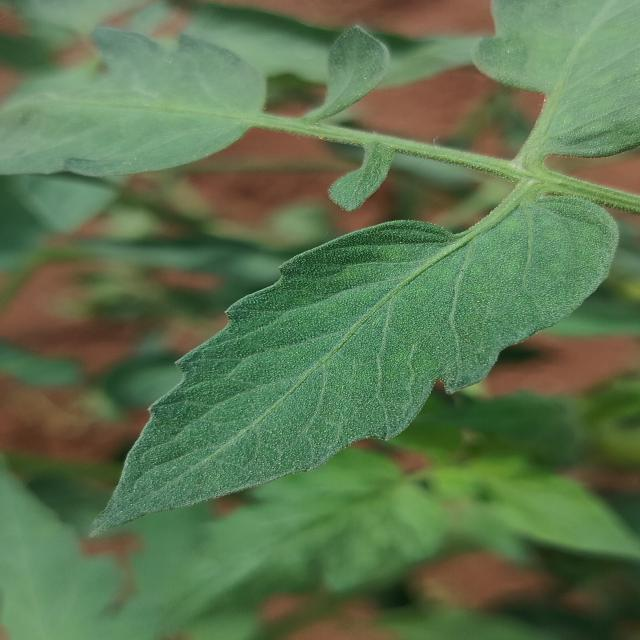tomato_healthy: (63, 190, 616, 542)
